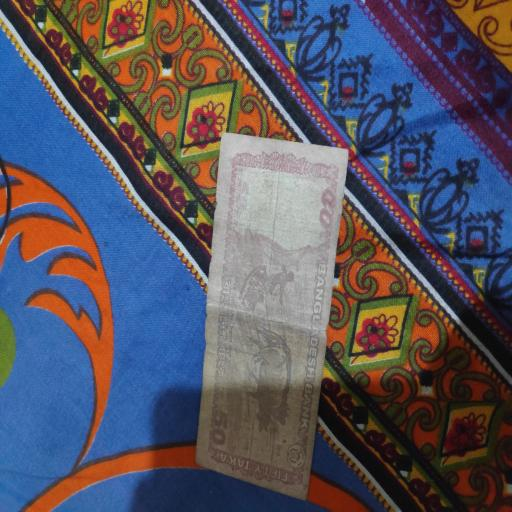50taka: (199, 133, 347, 494)
